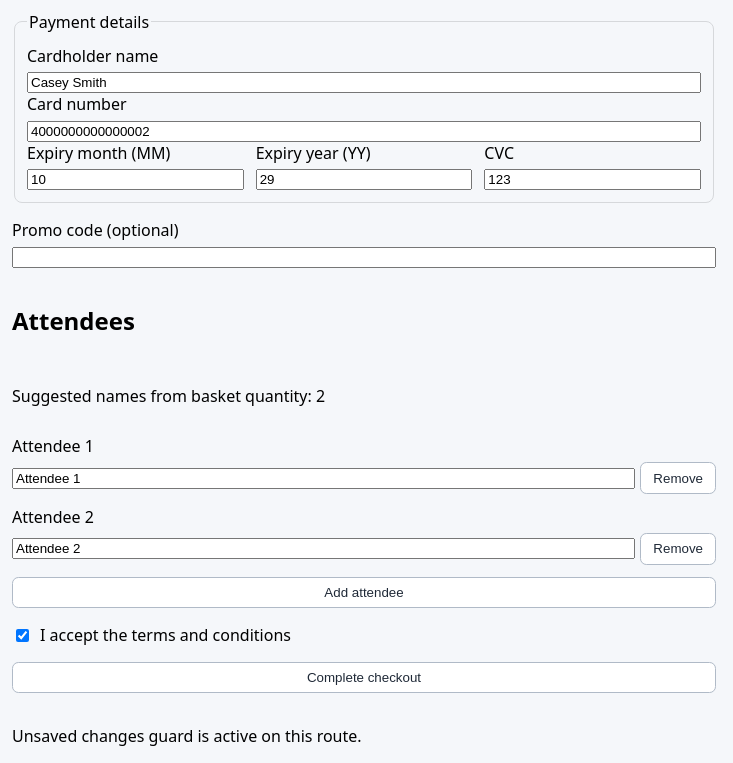
Test: CheckoutPageComponent › shows a user-friendly message when payment is declined
(page scrolled)
Click the submit button.
click(364, 678)  # box [12, 662, 716, 693]
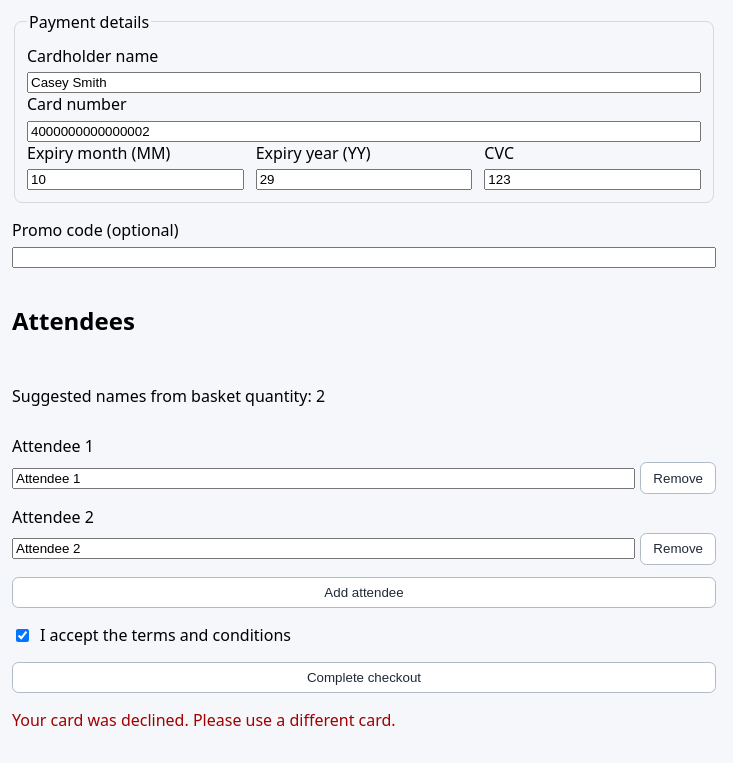
Now the text "Your card was declined. Please use a different card." is shown, box [12, 709, 396, 731]
